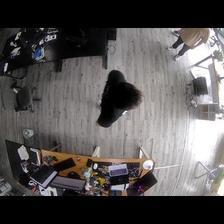normal: (96, 70, 143, 129)
